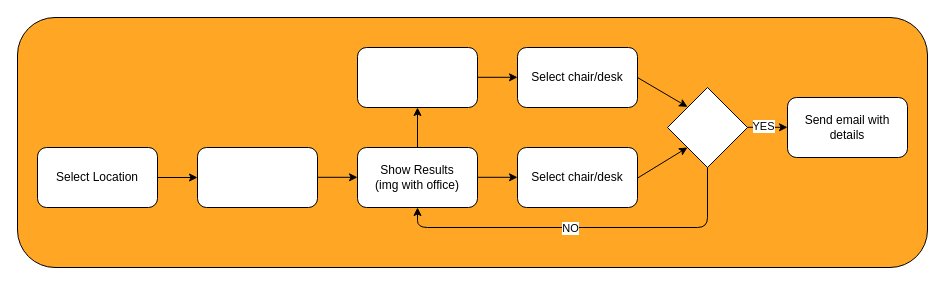
Image size: 945x285. Some labels were removed from this diagram. The shapes that lost their labels are listed below. From the top down, each one's box as (x1, y1, x2, y2) in pixels, then its label:
(356, 46, 478, 108): Show Results (text list)
(666, 86, 748, 168): Confirmation
(196, 146, 318, 208): Select Date
